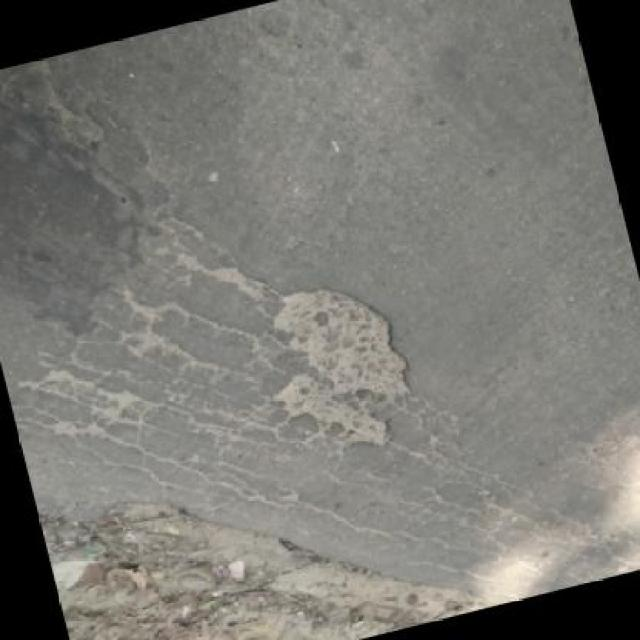pothole: (247, 269, 433, 473)
